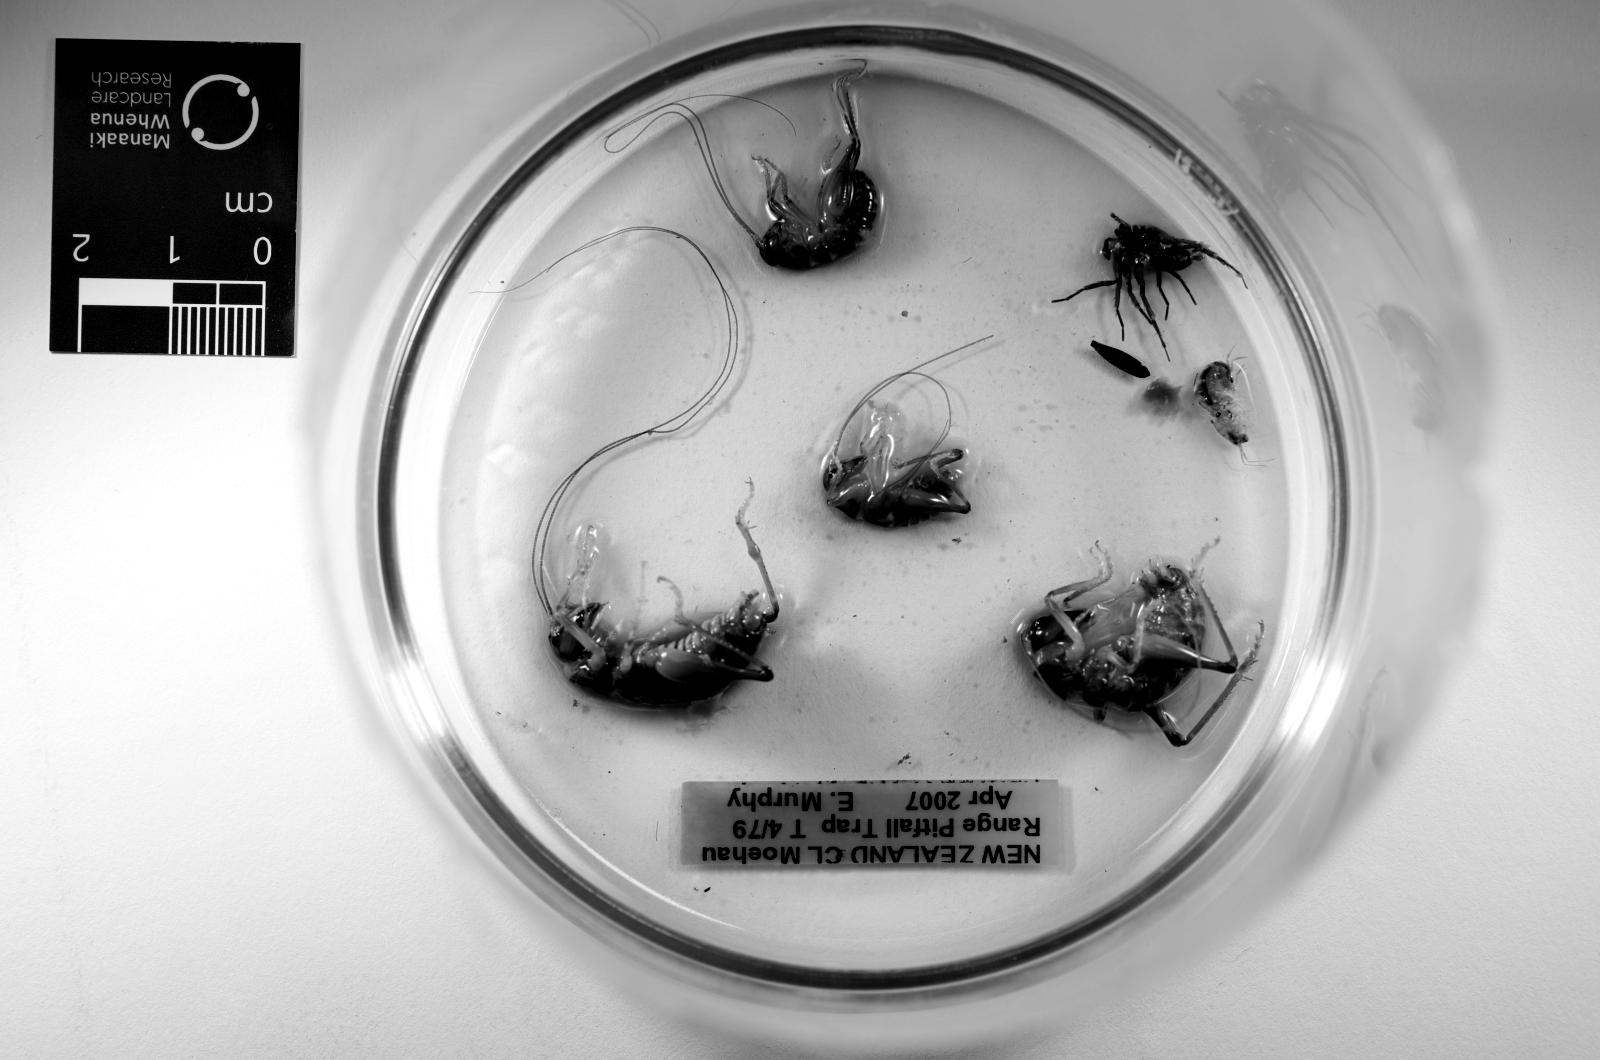amphipoda: (1197, 360, 1246, 447)
araneae: (1056, 214, 1231, 360)
orthoptera: (531, 369, 778, 707), (1022, 541, 1263, 749), (704, 65, 879, 270), (822, 348, 972, 528)
